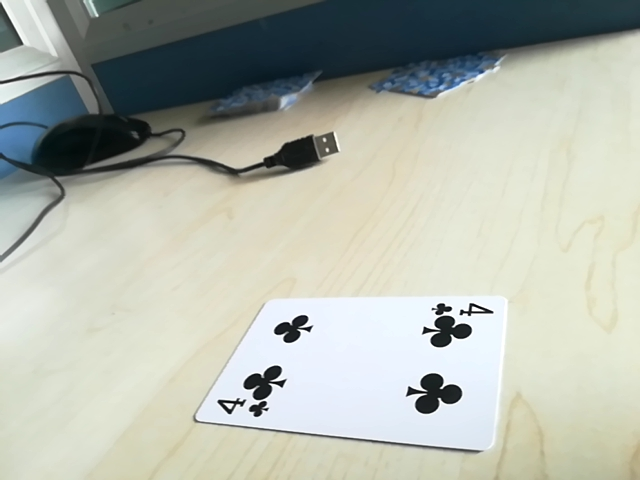mh 4: (212, 381, 280, 419), (426, 298, 494, 326)
